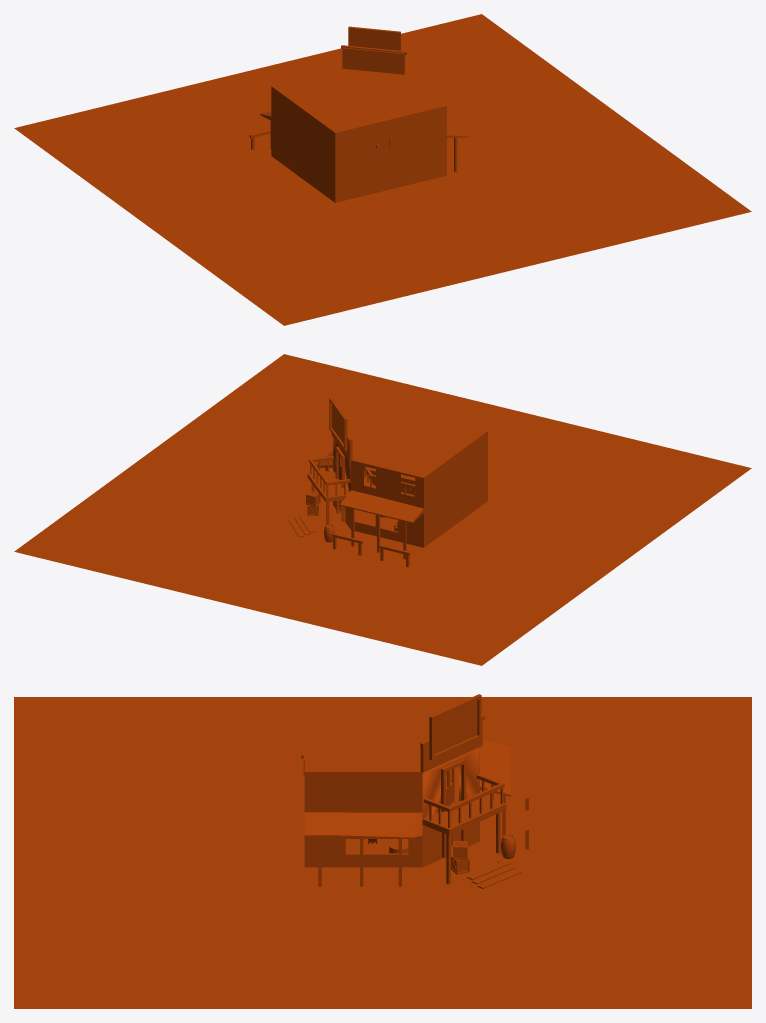
The model's file is Saloon_v01.FBX.
3 renders of one model, top to bottom at view 1: azimuth 30°, elevation 25°; view 2: azimuth 150°, elevation 25°; view 3: azimuth 270°, elevation 25°, orthographic. The views are drawn at different scales.
Parts seen in each view (by area): view 1: set_v01; view 2: set_v01; view 3: set_v01.
Boxes of the visible parts, left/top/right/bottom form: set_v01: left=14, top=14, right=751, bottom=325; set_v01: left=14, top=354, right=751, bottom=665; set_v01: left=14, top=694, right=751, bottom=1008.
Bounding box in the file's own units: 4051 × 4051 × 983.
